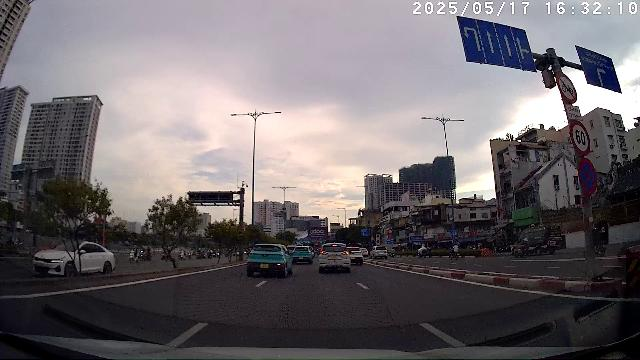127-toc-do-toi-da-60: (569, 120, 591, 157)
